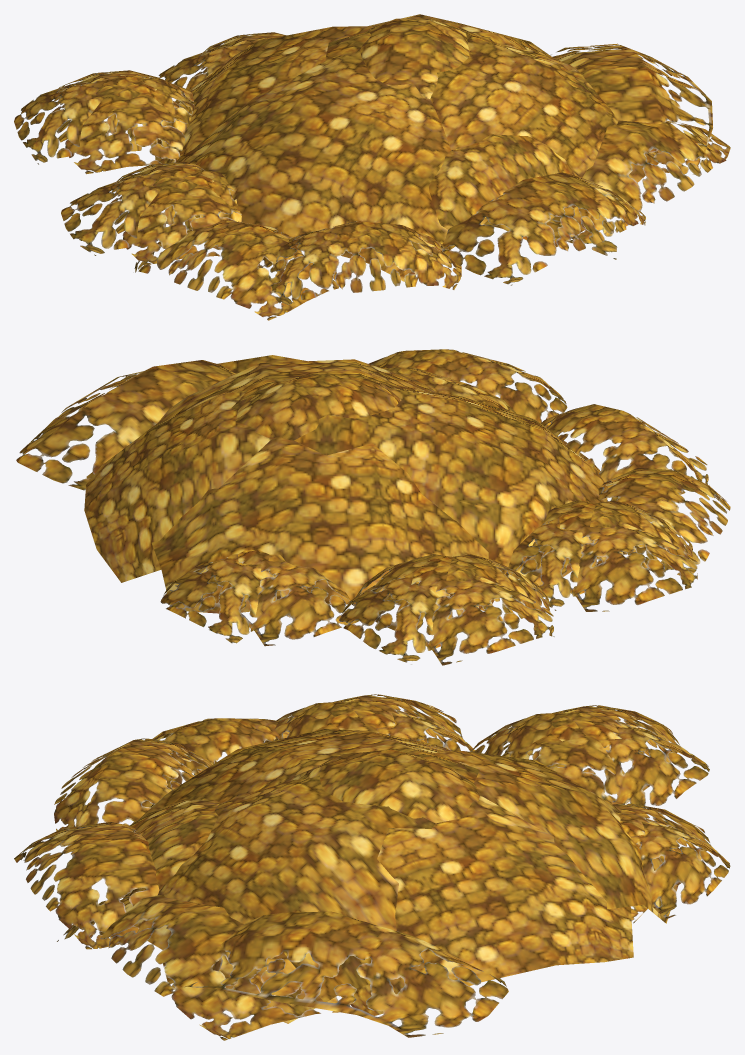
File: Treasure_Gold_03.FBX
The picture shows the model from 3 angles, top to bottom: view 1: azimuth 30°, elevation 25°; view 2: azimuth 150°, elevation 25°; view 3: azimuth 270°, elevation 25°; orthographic projection. The views are drawn at different scales.
Visible parts, largest first — view 1: Treasure_Gold_03; view 2: Treasure_Gold_03; view 3: Treasure_Gold_03.
Boxes of the visible parts, x1,y1,x2,y2 form: Treasure_Gold_03: (14,14,730,320); Treasure_Gold_03: (16,349,730,665); Treasure_Gold_03: (14,694,730,1040).
Bounding box in the file's own units: 6.19 × 1.33 × 5.54.
